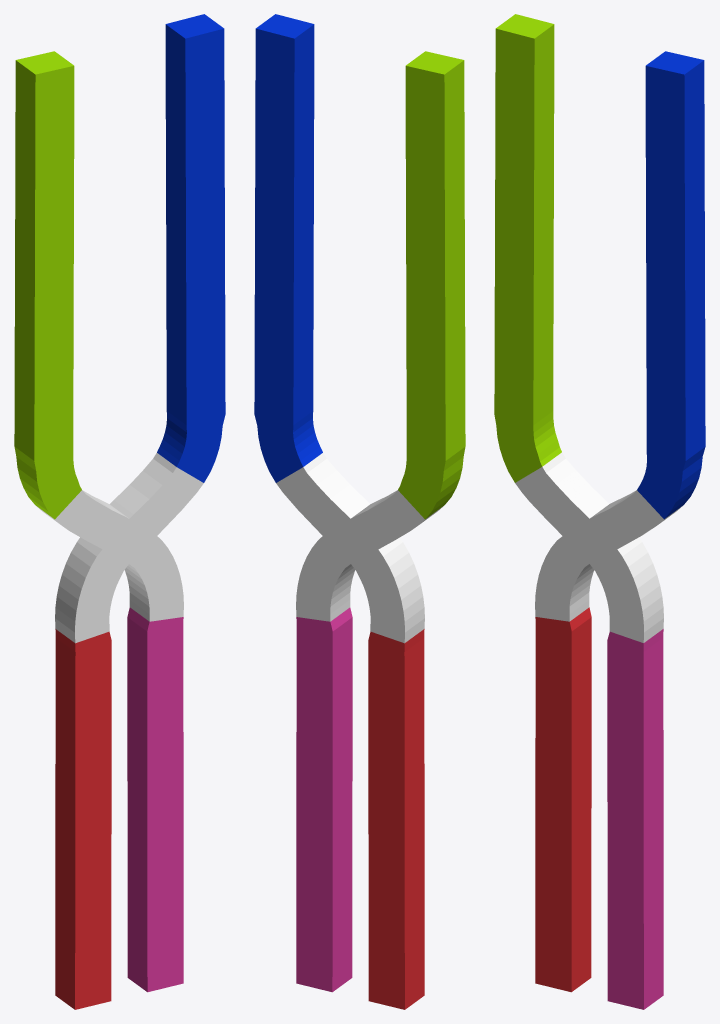
Rendered from new Col Bridge 3.0 (Optimized).fbx.
The picture shows the model from 3 angles, left to right: view 1: azimuth 30°, elevation 25°; view 2: azimuth 150°, elevation 25°; view 3: azimuth 330°, elevation 25°; orthographic projection.
Visible parts, largest first — view 1: Cromosome; view 2: Cromosome; view 3: Cromosome.
Part boxes in pixels (x1=…): Cromosome: x1=14, y1=14, x2=225, y2=1009; Cromosome: x1=254, y1=14, x2=465, y2=1009; Cromosome: x1=494, y1=14, x2=705, y2=1009.
Bounding box in the file's own units: 628 × 2967 × 113.
